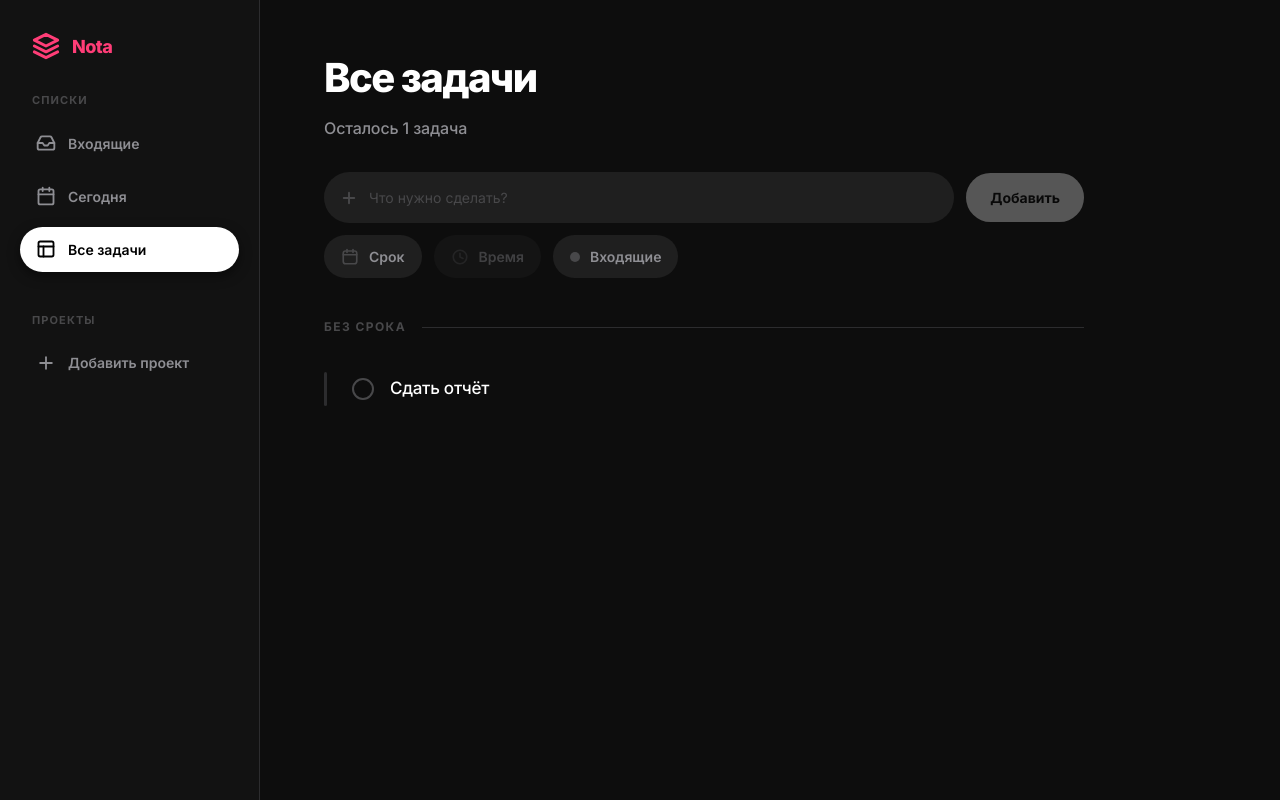
Test: отметка выполнения › показывает ошибку сервера и оставляет отметку прежней
Step 1. Click the checkbox named "Сдать отчёт" → x=363, y=389, box [352,378,374,400]
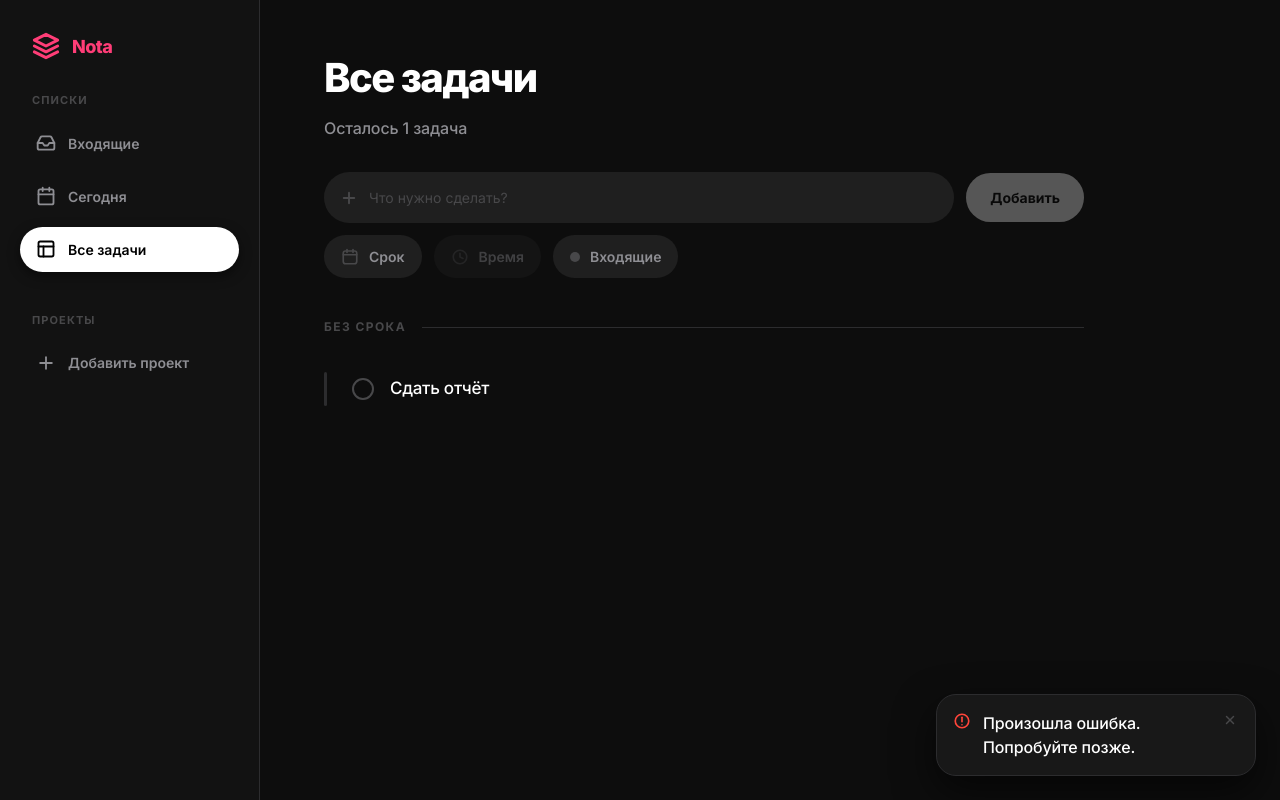
Now the text "Произошла ошибка. Попробуйте позже." is shown, box [983,713,1140,757]
